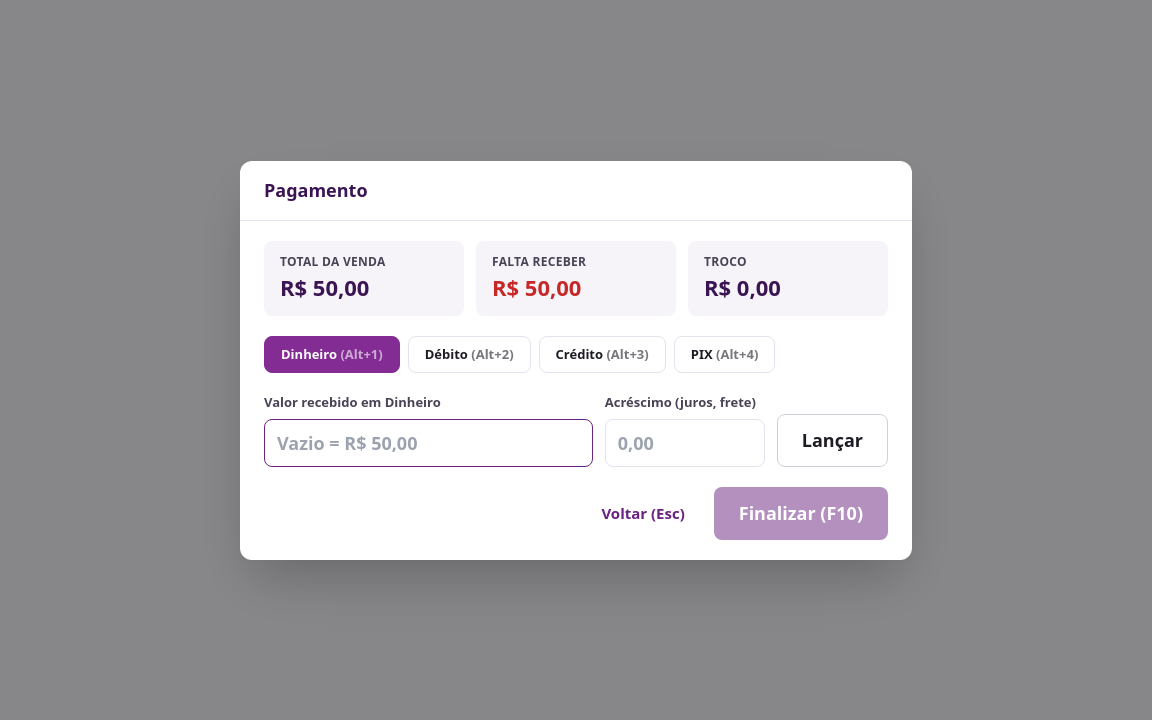
Test case: sem maquininha integrada, nada muda para o PIX › o PIX do provedor de cobrança é lançado como sempre foi
Click the button "PIX (Alt+4)": (724, 354) [674, 336, 775, 373]
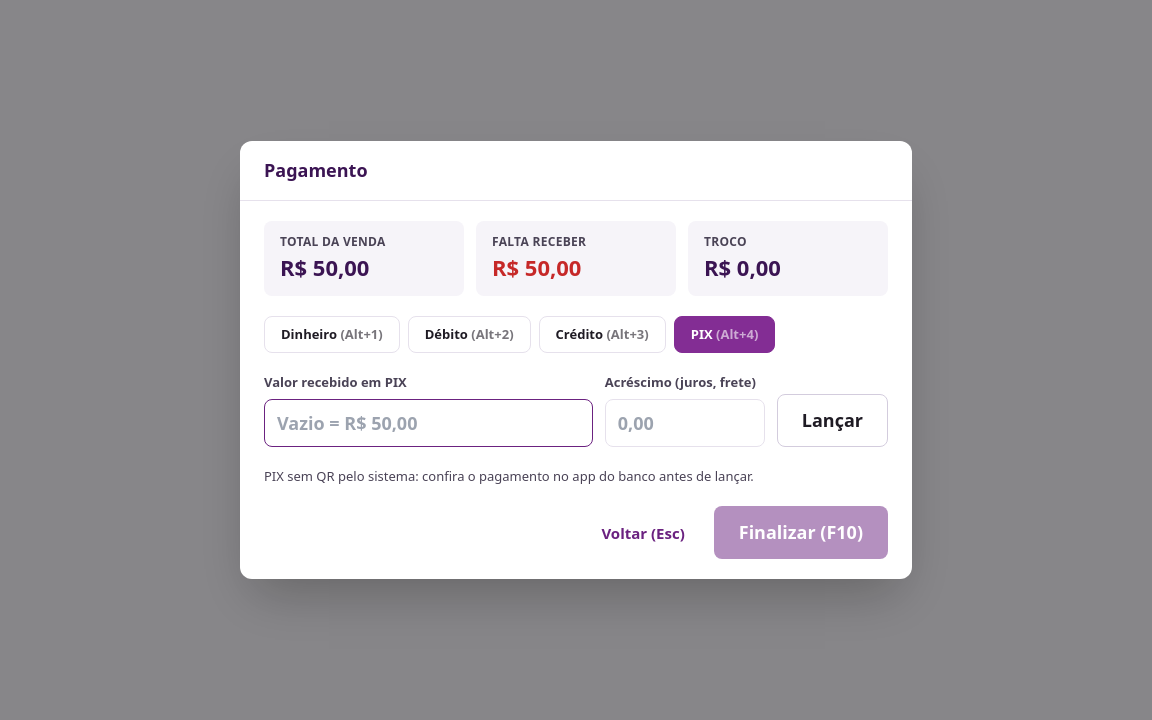
Click the button "Lançar": (832, 420) [777, 394, 888, 447]
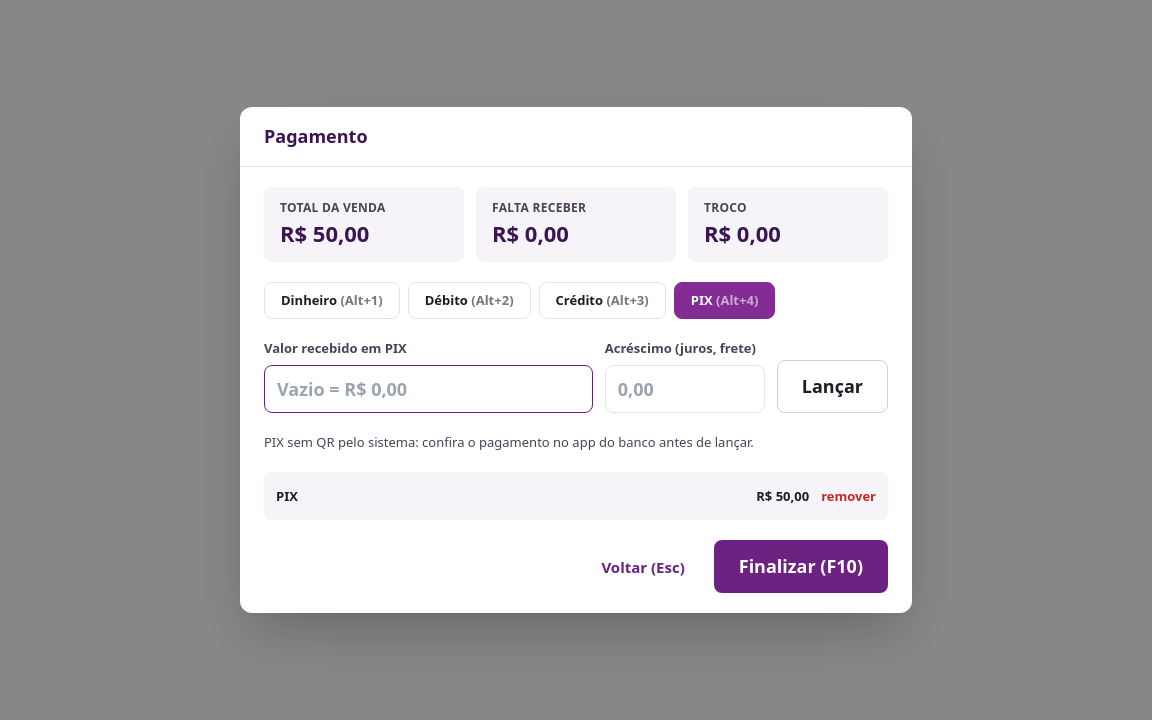
Check: the button with aria-label "Remover PIX" is shown, box [821, 480, 876, 512]
